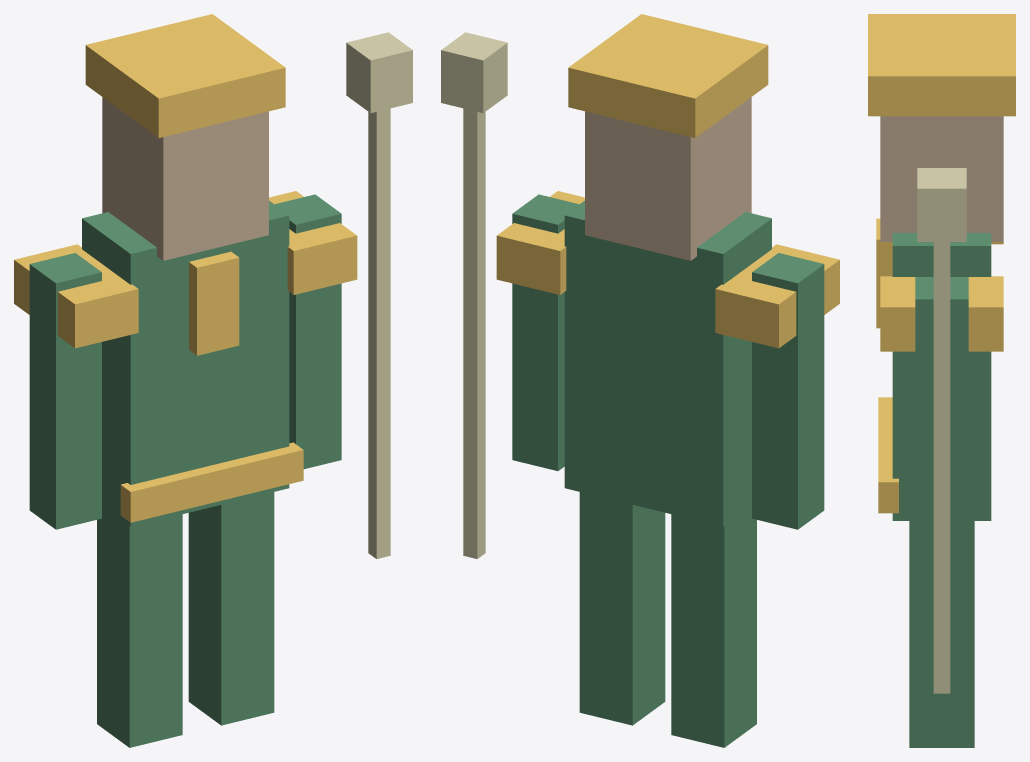
Rendered from 06_luma_riftwalker_operator_at.glb.
3 renders of one model, left to right at view 1: azimuth 30°, elevation 25°; view 2: azimuth 150°, elevation 25°; view 3: azimuth 270°, elevation 25°, orthographic.
Parts seen in each view (by area): view 1: Luma Riftwalker, Operator at; view 2: Luma Riftwalker, Operator at; view 3: Luma Riftwalker, Operator at.
Boxes of the visible parts, x1=… form: Luma Riftwalker, Operator at: x1=14, y1=14, x2=412, y2=747; Luma Riftwalker, Operator at: x1=441, y1=14, x2=839, y2=747; Luma Riftwalker, Operator at: x1=868, y1=14, x2=1015, y2=747.
Bounding box in the file's own units: 0.9559 × 1.69 × 0.3391.
